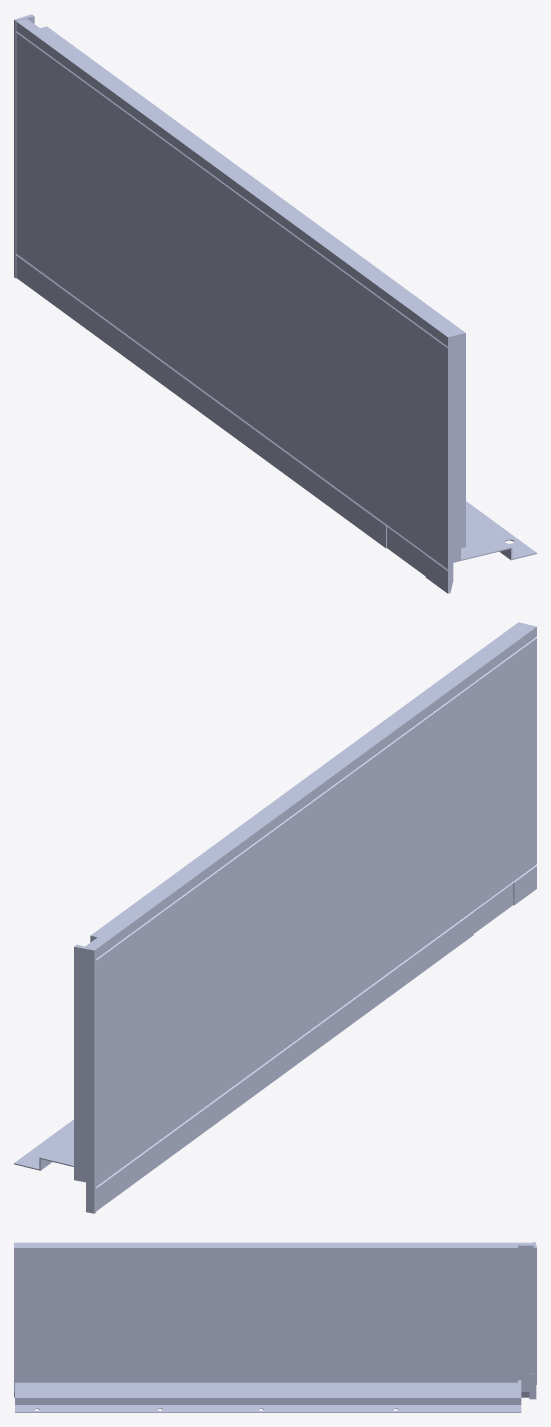
Rendered from lg-kava-C550-p.glb.
The picture shows the model from 3 angles, top to bottom: view 1: azimuth 30°, elevation 25°; view 2: azimuth 150°, elevation 25°; view 3: azimuth 270°, elevation 25°; orthographic projection. The views are drawn at different scales.
Visible parts, largest first — view 1: 46659210; view 2: 46659210; view 3: 46659210.
Boxes of the visible parts, x1,y1,x2,y2 form: 46659210: (14,14,536,593); 46659210: (14,622,536,1213); 46659210: (14,1242,536,1412).
Bounding box in the file's own units: 0.0653 × 0.1777 × 0.5435.
